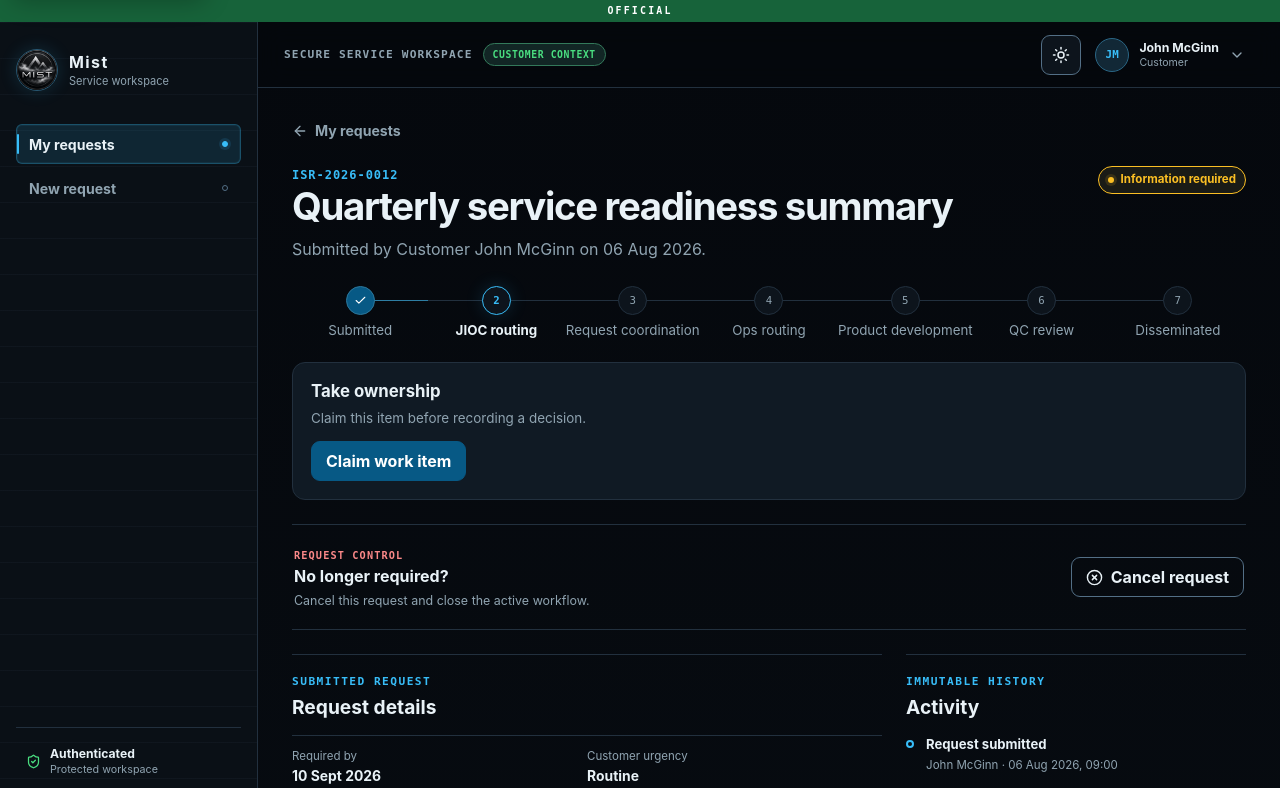
Scenario: request branch states › claims requester work and reports a rejected claim
Click the button "Claim work item" at (389, 461), box [311,441,466,481]
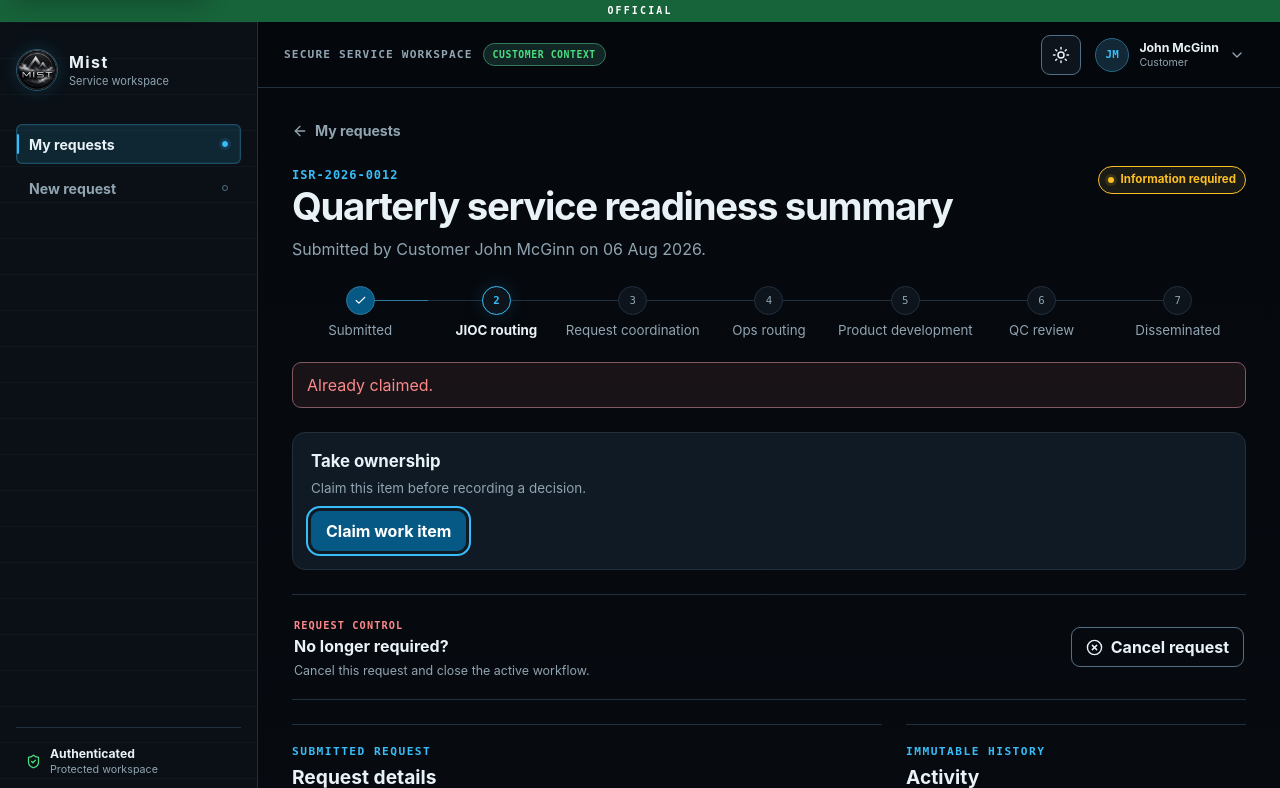
Expected: the message reads "Already claimed.", [307,375,433,395]
